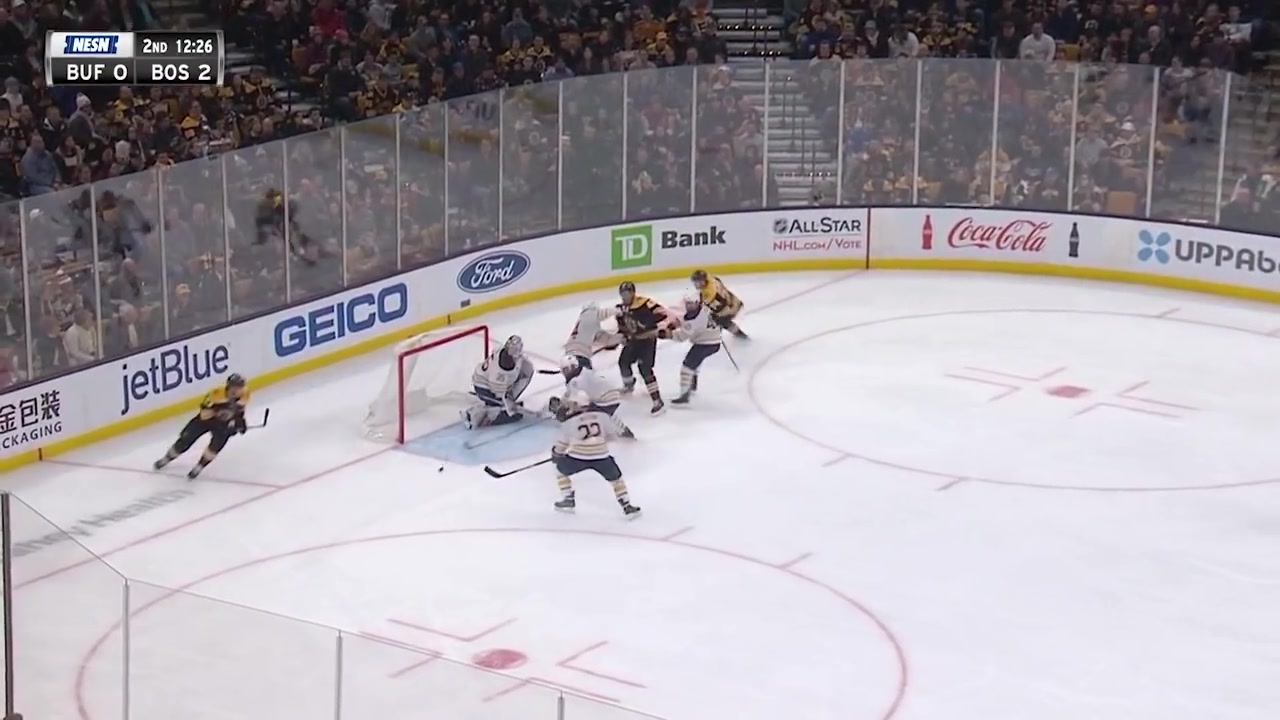Geico: (275, 284, 418, 351)
